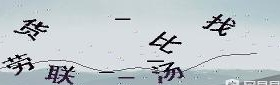chinese: (206, 10, 235, 39), (152, 60, 179, 85), (148, 31, 177, 53), (20, 17, 43, 42), (8, 55, 33, 74), (49, 65, 71, 85)
